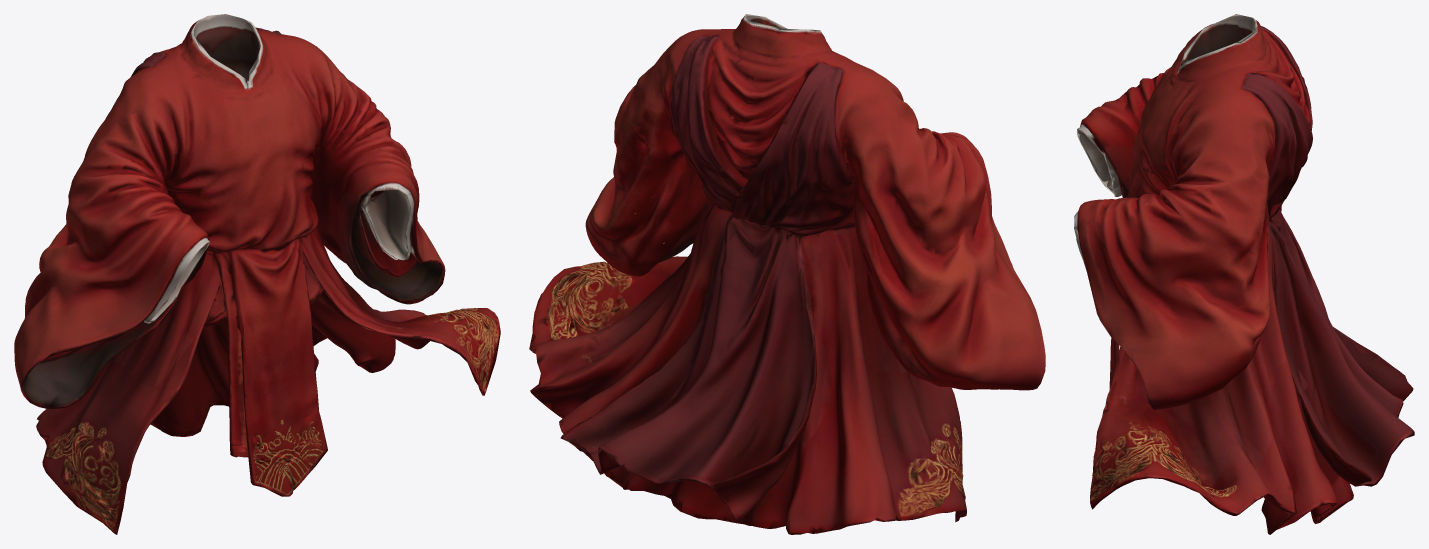
File: red-robe.glb
3 renders of one model, left to right at view 1: azimuth 30°, elevation 25°; view 2: azimuth 150°, elevation 25°; view 3: azimuth 270°, elevation 25°, orthographic. The views are drawn at different scales.
Visible parts, largest first — view 1: tripo_node_f316a1c5-bda6-46c7-a6df-58d9839e22be; view 2: tripo_node_f316a1c5-bda6-46c7-a6df-58d9839e22be; view 3: tripo_node_f316a1c5-bda6-46c7-a6df-58d9839e22be.
Boxes of the visible parts, left/top/right/bottom form: tripo_node_f316a1c5-bda6-46c7-a6df-58d9839e22be: left=14, top=14, right=500, bottom=534; tripo_node_f316a1c5-bda6-46c7-a6df-58d9839e22be: left=529, top=14, right=1045, bottom=534; tripo_node_f316a1c5-bda6-46c7-a6df-58d9839e22be: left=1074, top=14, right=1414, bottom=534.
Size of the model in its own units: 0.9782 by 0.9251 by 0.6001.
1 material, 1 textured.
